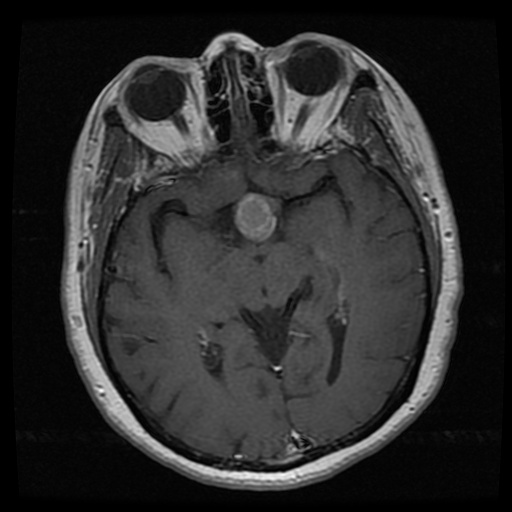pituitary: (234, 192, 277, 241)
